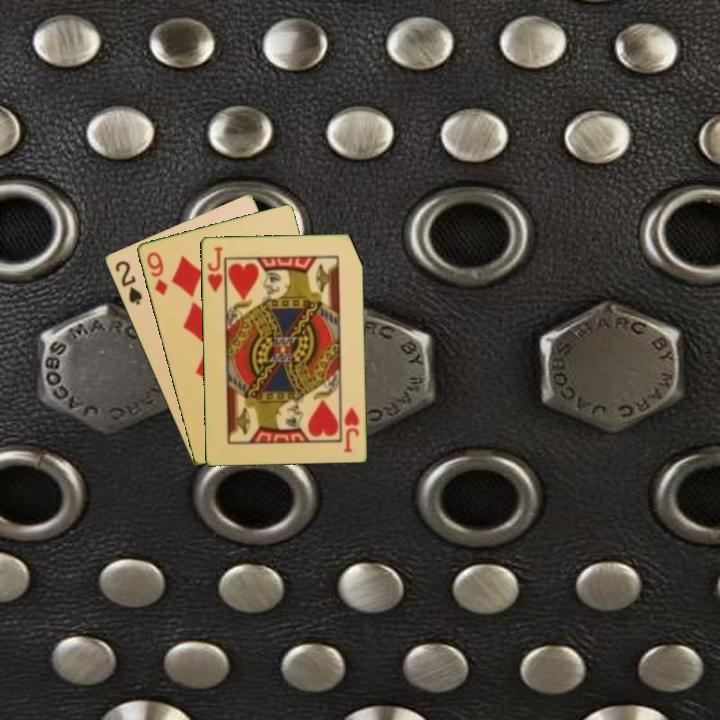2s: (111, 257, 145, 308)
9d: (143, 248, 170, 298)
Jh: (204, 243, 227, 299), (340, 403, 362, 455)
